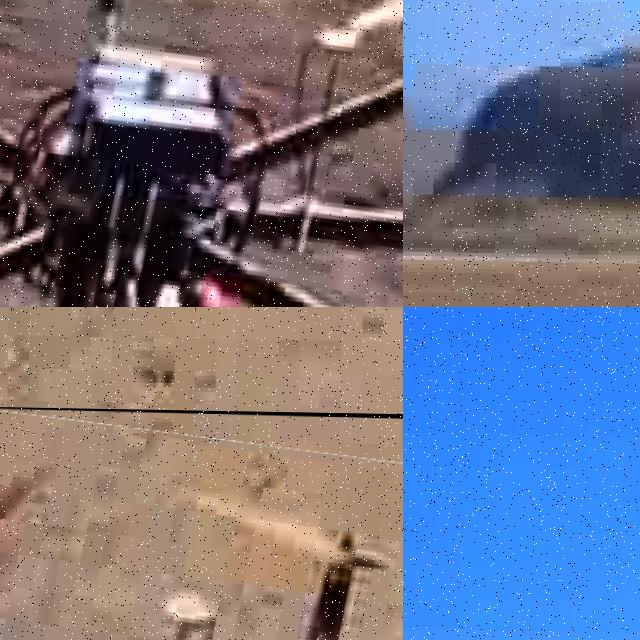drone: (0, 0, 403, 307), (0, 403, 403, 640)
